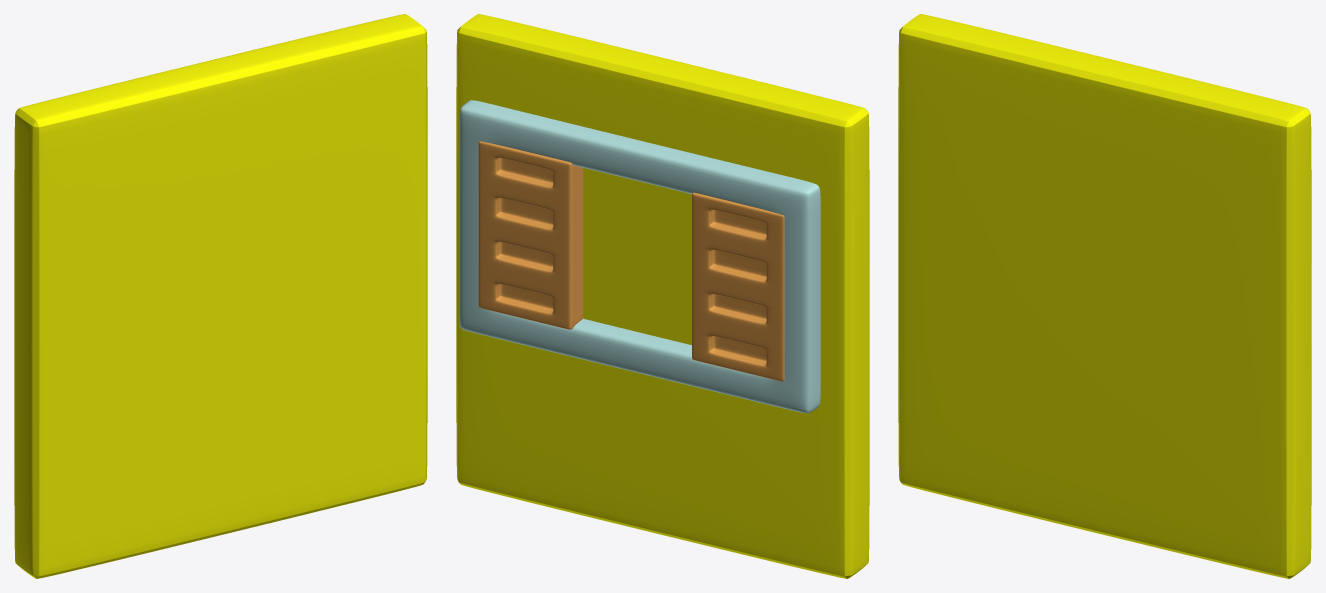
The picture shows the model from 3 angles, left to right: view 1: azimuth 30°, elevation 25°; view 2: azimuth 150°, elevation 25°; view 3: azimuth 330°, elevation 25°; orthographic projection.
Parts seen in each view (by area): view 1: polySurface1226; view 2: polySurface1226; view 3: polySurface1226.
Part boxes in pixels (box(x1,y1,x2,y2)): polySurface1226: box(14, 14, 427, 578); polySurface1226: box(456, 14, 869, 578); polySurface1226: box(898, 14, 1311, 578).
Bounding box in the file's own units: 0.8996 × 0.9995 × 0.1478.
